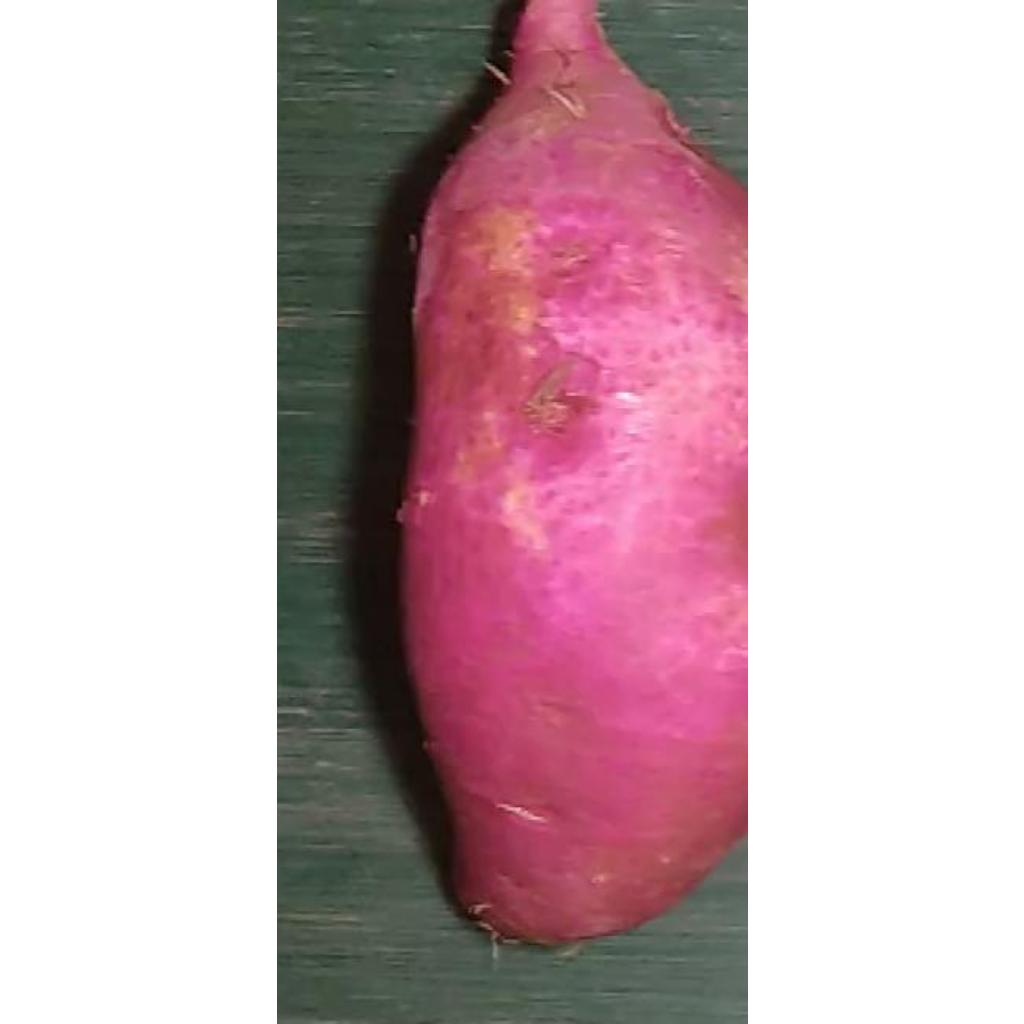Sweet Potato: (397, 33, 747, 950)
